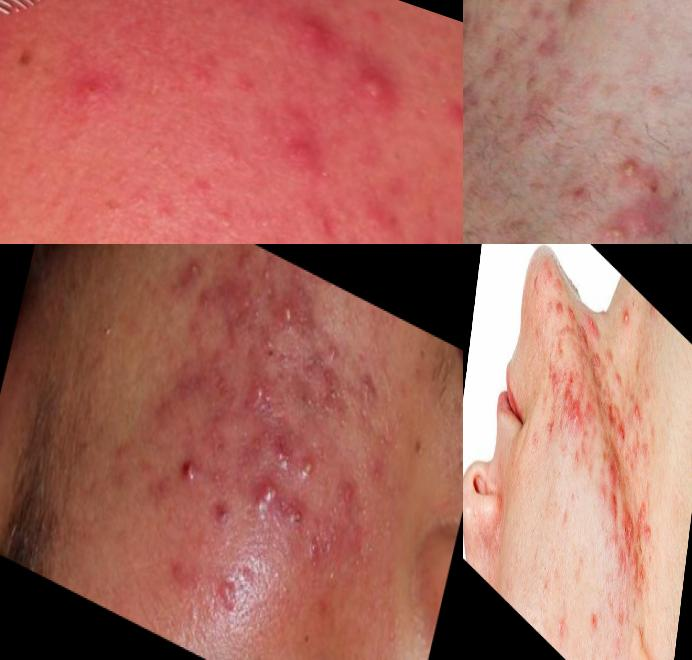acne_scars: (629, 545, 649, 603), (586, 347, 605, 396), (582, 392, 597, 435)
blackhead: (528, 412, 548, 479), (555, 562, 575, 622), (538, 553, 555, 608)
folliculitis: (593, 132, 665, 199), (590, 197, 644, 245)
papular: (346, 58, 420, 119), (282, 2, 345, 66), (69, 55, 127, 119), (279, 136, 327, 187), (437, 90, 464, 149), (587, 600, 602, 643), (602, 340, 616, 379), (553, 294, 567, 329), (633, 399, 645, 435), (567, 298, 580, 331), (613, 369, 625, 398)
purulent: (274, 287, 312, 343), (242, 367, 280, 416), (174, 447, 206, 495), (254, 260, 279, 299), (185, 250, 206, 287), (619, 295, 635, 342), (613, 596, 628, 640)
sebo-crystan-conglo: (203, 561, 255, 627), (265, 407, 305, 482), (599, 439, 626, 537), (292, 444, 330, 508), (602, 394, 635, 459), (248, 476, 284, 533), (560, 371, 586, 444), (580, 302, 607, 360), (618, 497, 638, 562), (642, 518, 657, 562)
whitehead: (542, 322, 559, 386)
